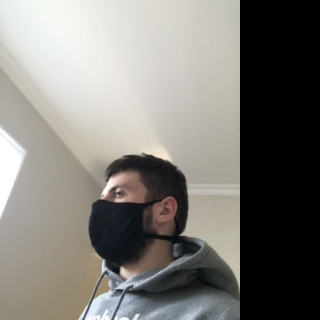with_mask: (88, 180, 155, 264)
